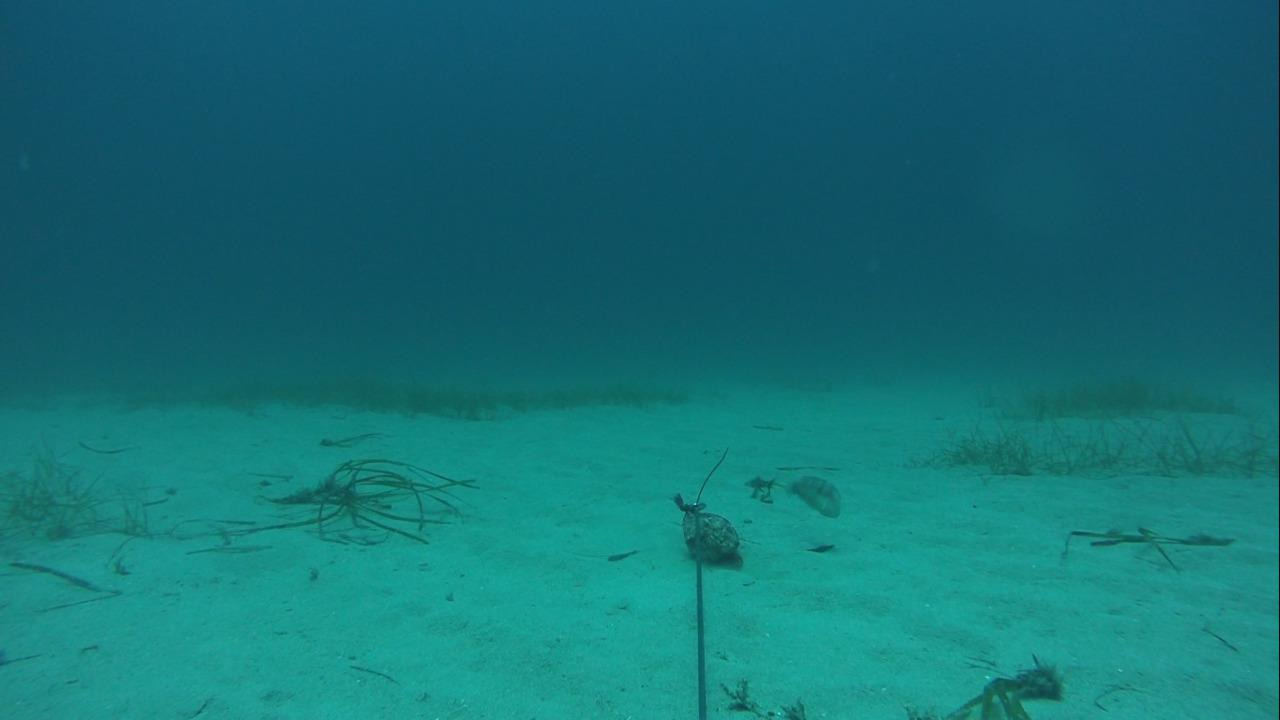raor: (781, 469, 847, 521)
